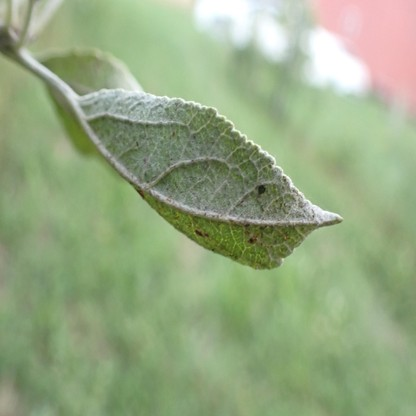powdery_mildew: (78, 87, 343, 226)
